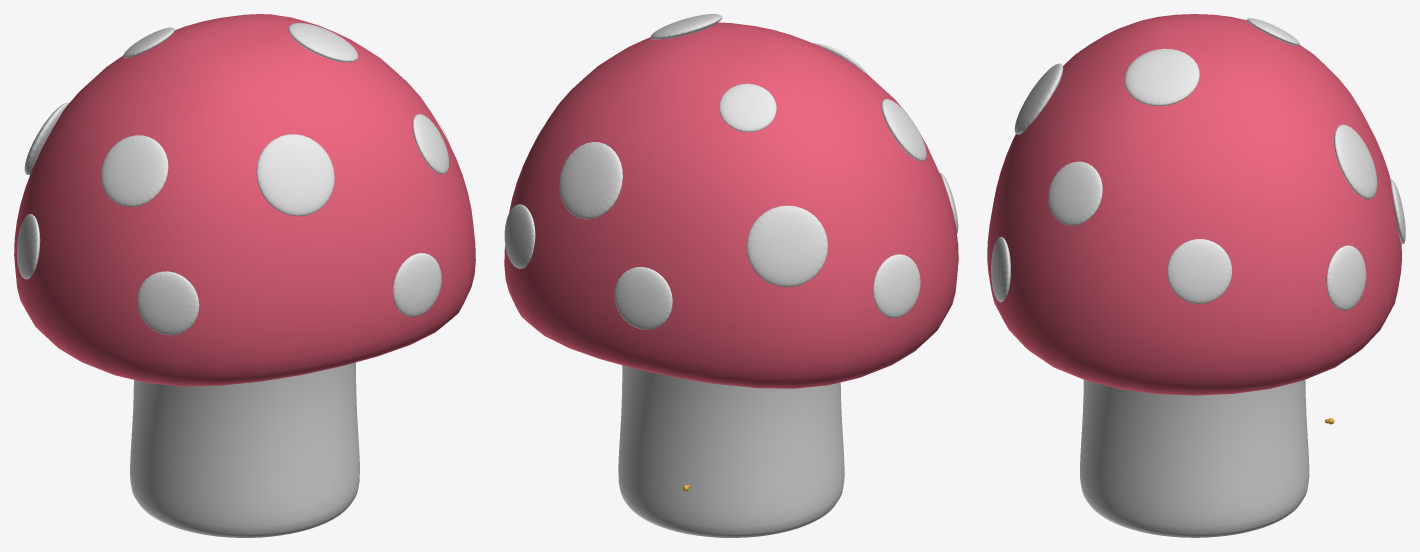
The model's file is mushroom2.1.fbx.
The picture shows the model from 3 angles, left to right: view 1: azimuth 30°, elevation 25°; view 2: azimuth 150°, elevation 25°; view 3: azimuth 270°, elevation 25°; orthographic projection.
Parts seen in each view (by area): view 1: Cube, Cylinder, Sphere.007, Sphere.005, Sphere.006, Sphere.008, Sphere.011, Sphere.010, Sphere.004, Sphere.003, Sphere.014; view 2: Cube, Cylinder, Sphere.003, Sphere.001, Sphere.002, Sphere.004, Sphere.014, Sphere, Sphere.005, Sphere.011; view 3: Cube, Cylinder, Sphere.011, Sphere.013, Sphere.010, Sphere.001, Sphere, Sphere.007, Sphere.008, Sphere.014, Sphere.002.
Part boxes in pixels (bbox=[...]): Cube: bbox=[14, 14, 475, 386]; Cylinder: bbox=[130, 362, 359, 537]; Sphere.007: bbox=[256, 134, 334, 216]; Sphere.005: bbox=[101, 135, 168, 206]; Sphere.006: bbox=[137, 271, 199, 335]; Sphere.008: bbox=[393, 253, 441, 316]; Sphere.011: bbox=[288, 23, 358, 62]; Sphere.010: bbox=[412, 114, 449, 174]; Sphere.004: bbox=[17, 214, 40, 279]; Sphere.003: bbox=[24, 103, 68, 174]; Sphere.014: bbox=[123, 27, 174, 58]; Cube: bbox=[504, 22, 958, 388]; Cylinder: bbox=[618, 365, 844, 537]; Sphere.003: bbox=[746, 205, 827, 287]; Sphere.001: bbox=[559, 142, 622, 219]; Sphere.002: bbox=[614, 267, 672, 329]; Sphere.004: bbox=[873, 254, 920, 318]; Sphere.014: bbox=[719, 83, 776, 132]; Sphere: bbox=[504, 204, 535, 268]; Sphere.005: bbox=[881, 99, 926, 161]; Sphere.011: bbox=[650, 14, 722, 39]; Cube: bbox=[987, 14, 1401, 395]; Cylinder: bbox=[1080, 380, 1309, 537]; Sphere.011: bbox=[1124, 48, 1199, 105]; Sphere.013: bbox=[1167, 239, 1231, 303]; Sphere.010: bbox=[1048, 161, 1102, 225]; Sphere.001: bbox=[1334, 124, 1377, 199]; Sphere: bbox=[1326, 245, 1366, 310]; Sphere.007: bbox=[1014, 63, 1063, 134]; Sphere.008: bbox=[991, 237, 1010, 302]; Sphere.014: bbox=[1247, 18, 1299, 45]; Sphere.002: bbox=[1390, 179, 1405, 243].
Bounding box in the file's own units: 385 × 423 × 347.
